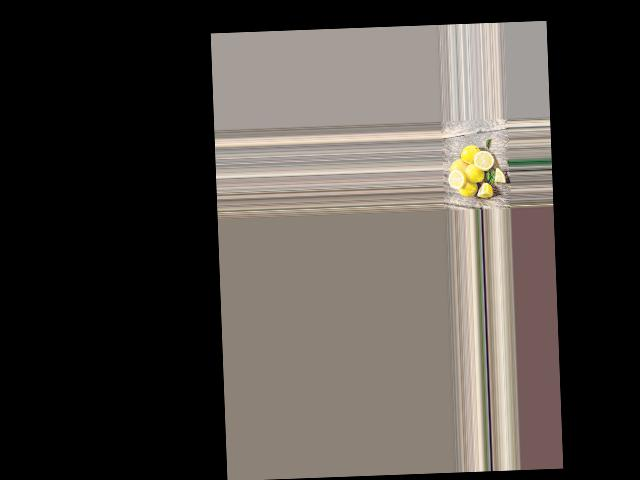lemon: (459, 179, 479, 197)
